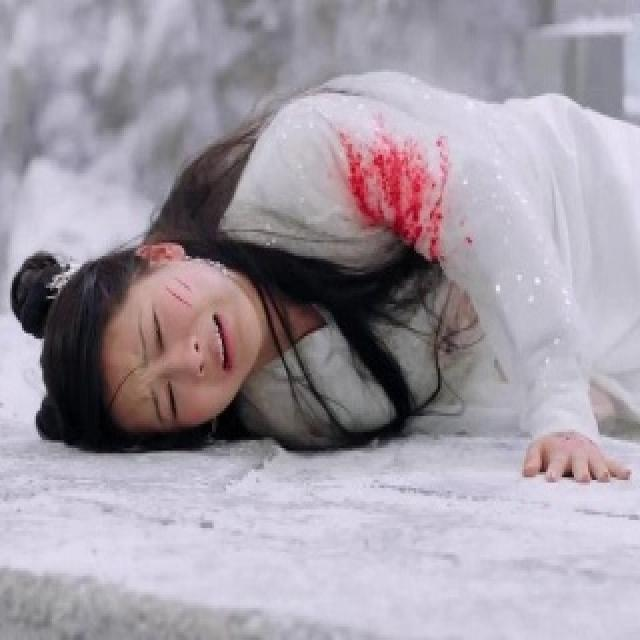down: (4, 59, 638, 488)
